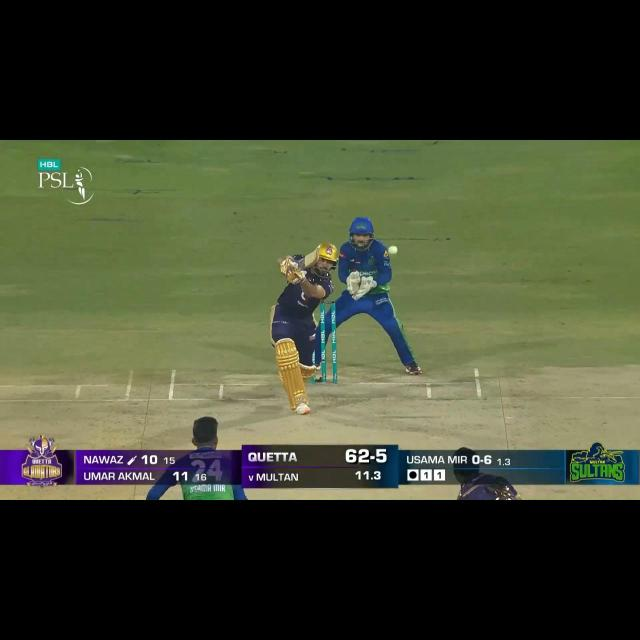bat: (294, 244, 320, 266)
toe: (316, 245, 320, 261)
